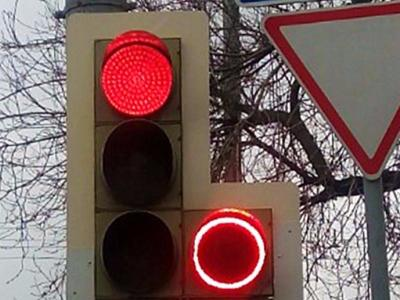trafficlight_red: (95, 32, 175, 300)
